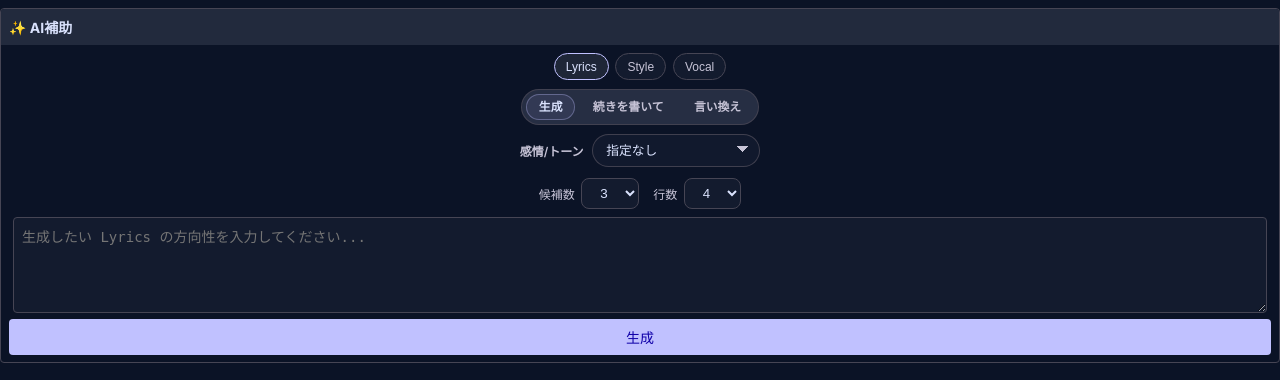
it: LLMAssistPanel › line count (lyrics only) › should hide line count when target is style
The image size is (1280, 380).
Click the tab "Style".
click(641, 67)  # box [615, 53, 666, 80]
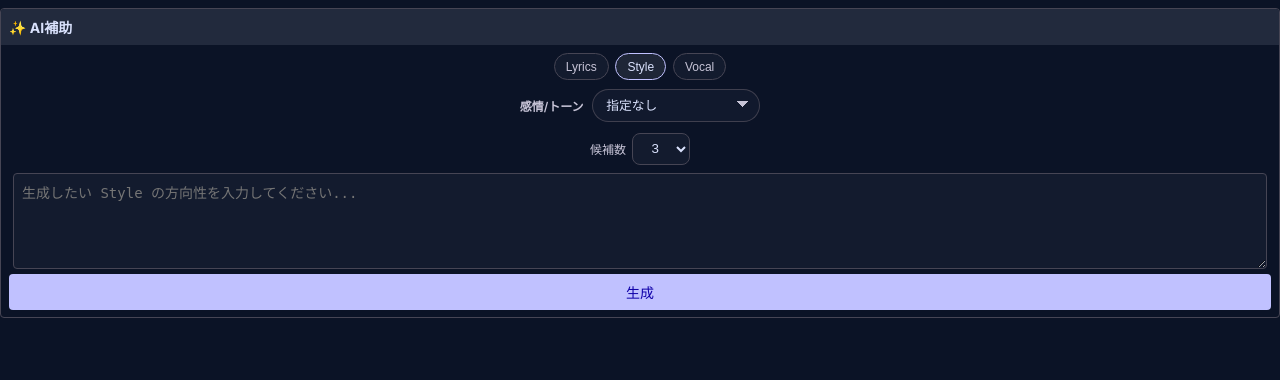
Expected: the label labelled "行数" is gone
